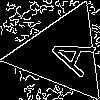A: (37, 29, 97, 78)
